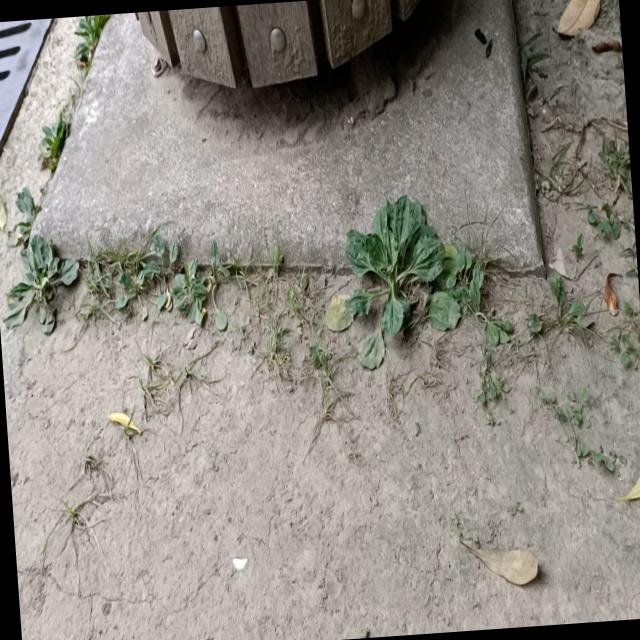grass: (346, 195, 445, 365), (4, 234, 78, 333), (345, 290, 374, 314)
white-sand: (0, 231, 640, 640)
